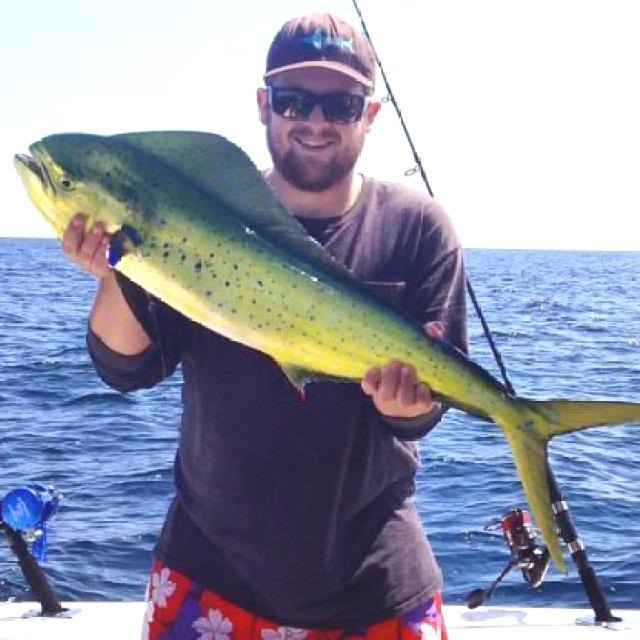face_nomask: (274, 82, 364, 160)
glasses: (266, 80, 376, 132)
hand_noglove: (359, 350, 443, 422), (56, 205, 121, 270)
head_helmet: (257, 9, 385, 94)
person: (57, 17, 483, 640)
